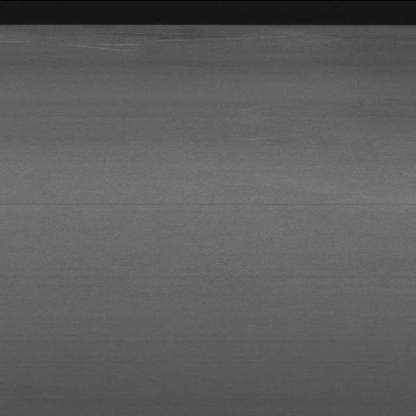silk_spot: (24, 26, 293, 53)
